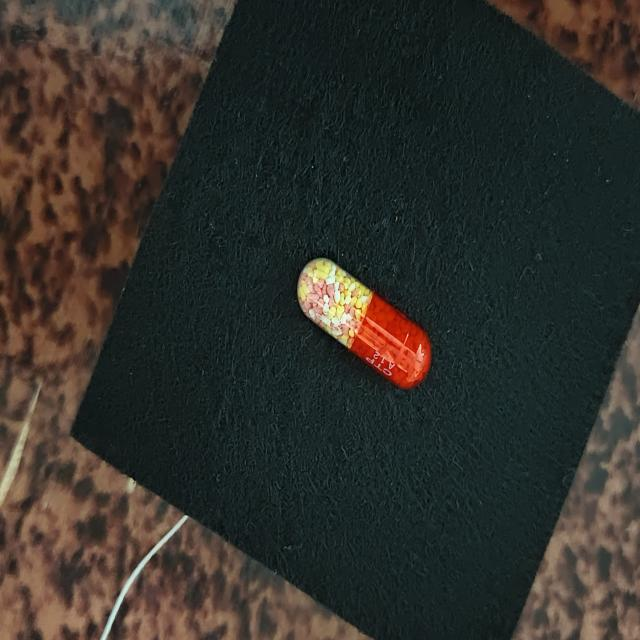Intact Capsule: (297, 258, 431, 389)
